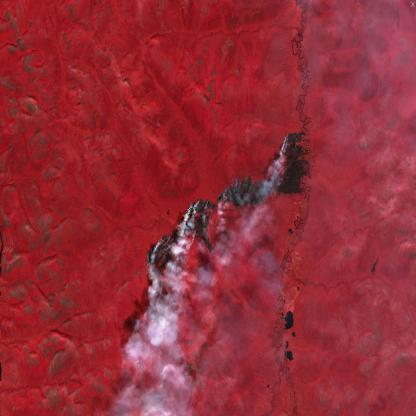fire: (143, 127, 300, 286)
